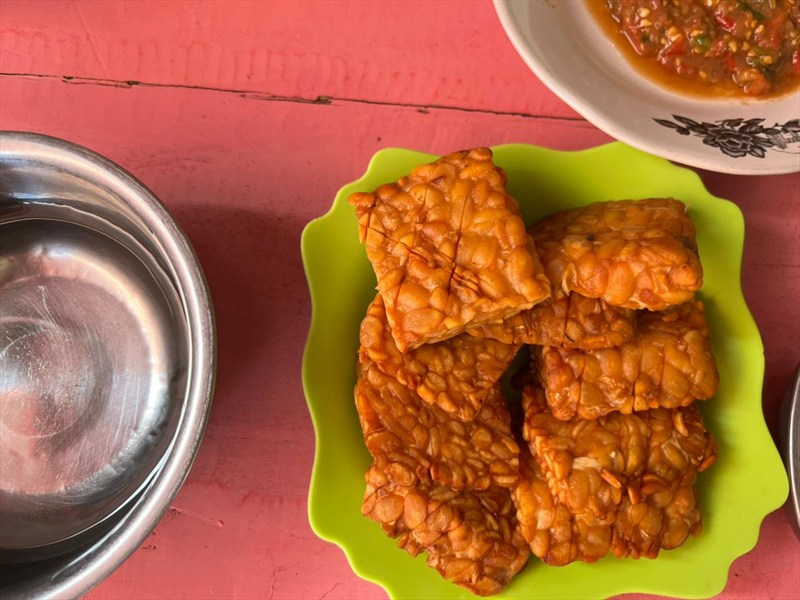Tempe Goreng: (112, 144, 728, 561)
